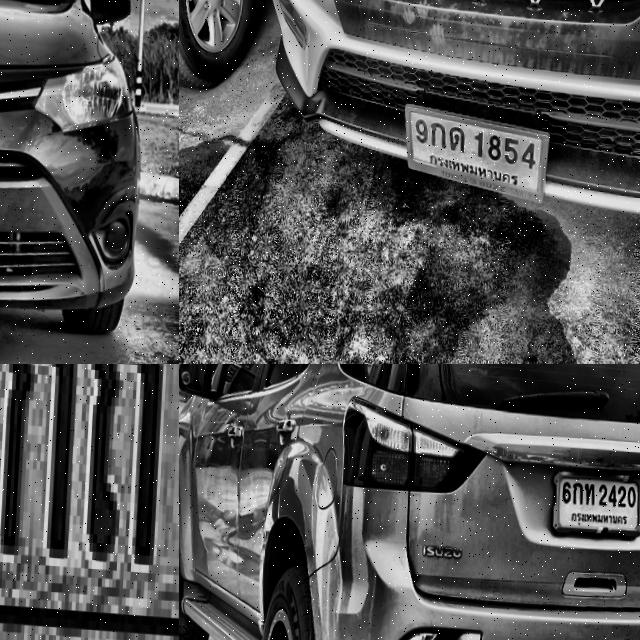license-plate: (0, 364, 179, 640), (399, 99, 550, 204), (547, 462, 640, 537)
